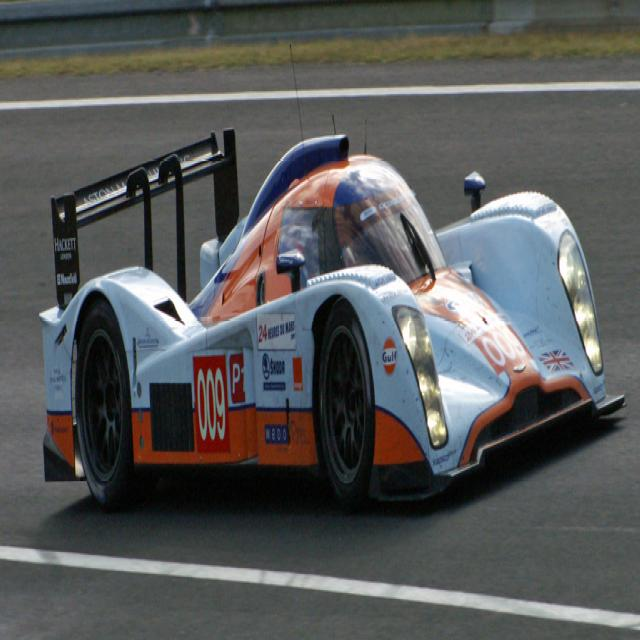car: (16, 137, 586, 526)
